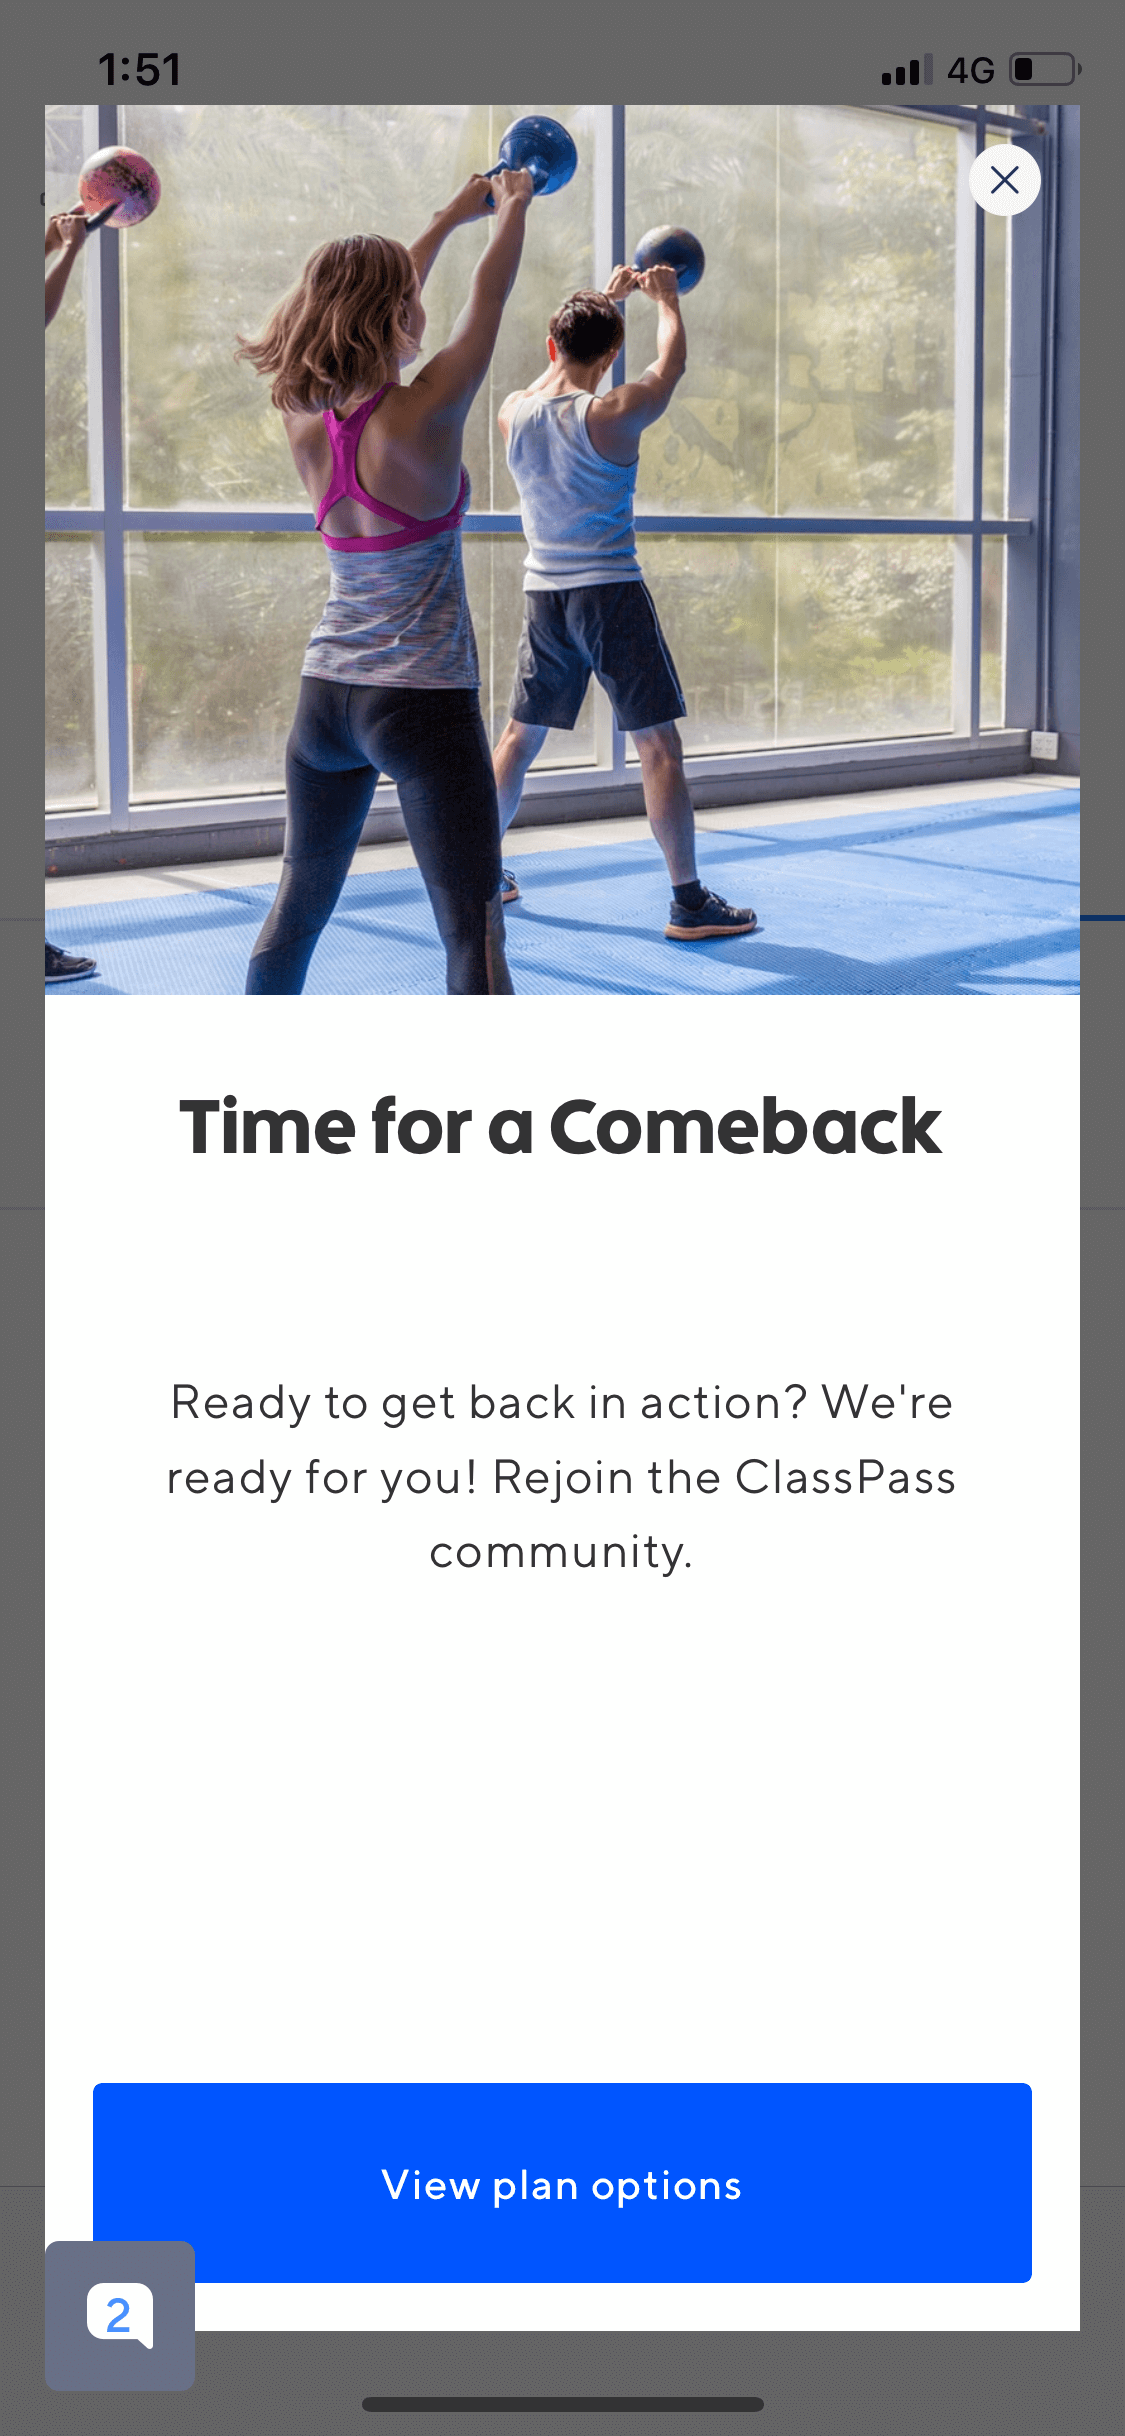Buttons: (82, 2062, 1050, 2299), (948, 132, 1057, 228)
FAB (Floating Action Button): (37, 2229, 211, 2410)
